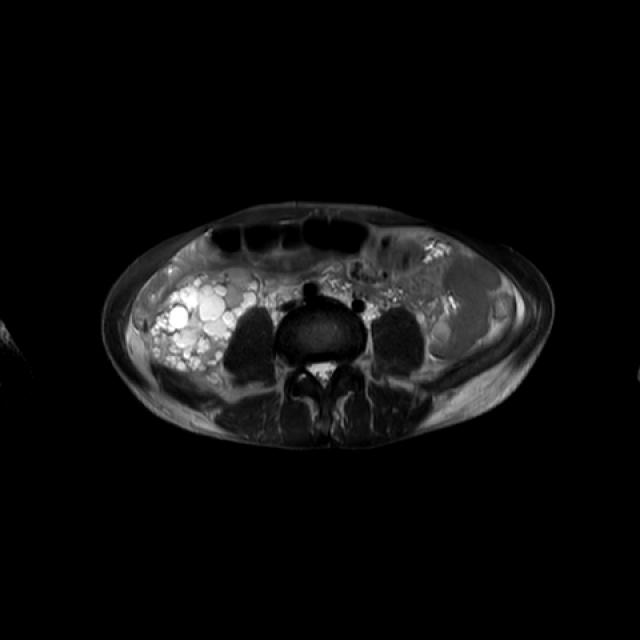sag: (151, 269, 257, 372)
sol: (432, 323, 453, 356)
